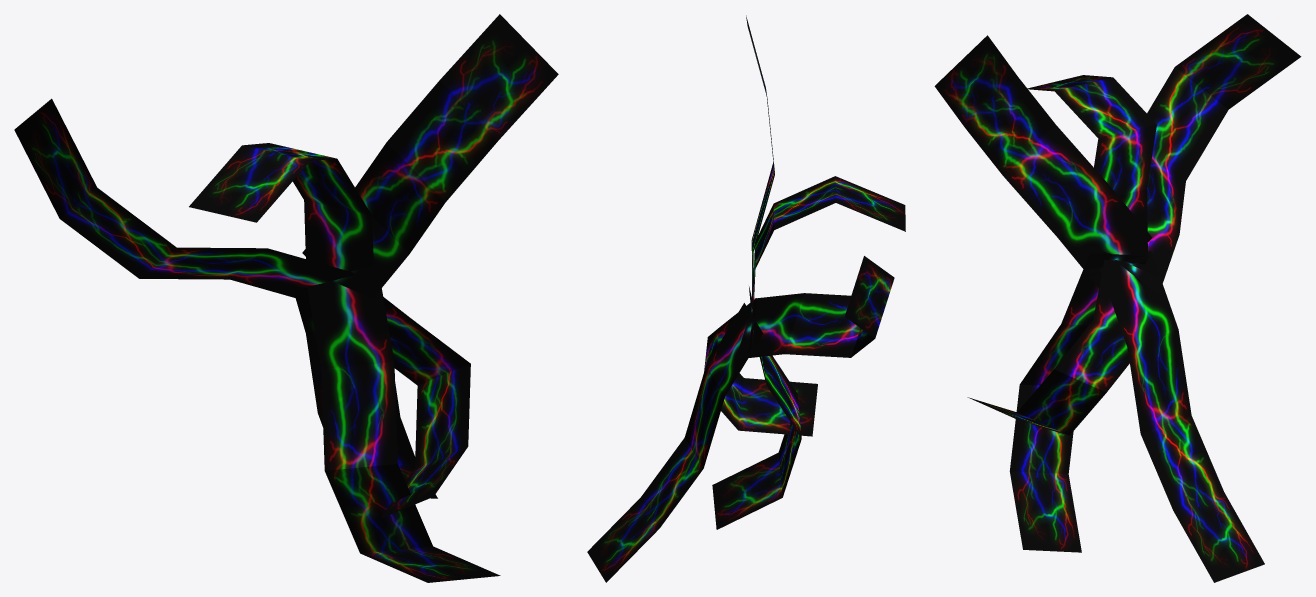
Rendered from Effect3.FBX.
The picture shows the model from 3 angles, left to right: view 1: azimuth 30°, elevation 25°; view 2: azimuth 150°, elevation 25°; view 3: azimuth 270°, elevation 25°; orthographic projection. The views are drawn at different scales.
Parts seen in each view (by area): view 1: lightning02_SM; view 2: lightning02_SM; view 3: lightning02_SM.
Part boxes in pixels (<box>): lightning02_SM: <box>14,14,558,582</box>; lightning02_SM: <box>587,15,905,582</box>; lightning02_SM: <box>934,14,1301,582</box>.
Size of the model in its own units: 203 by 313 by 198.
